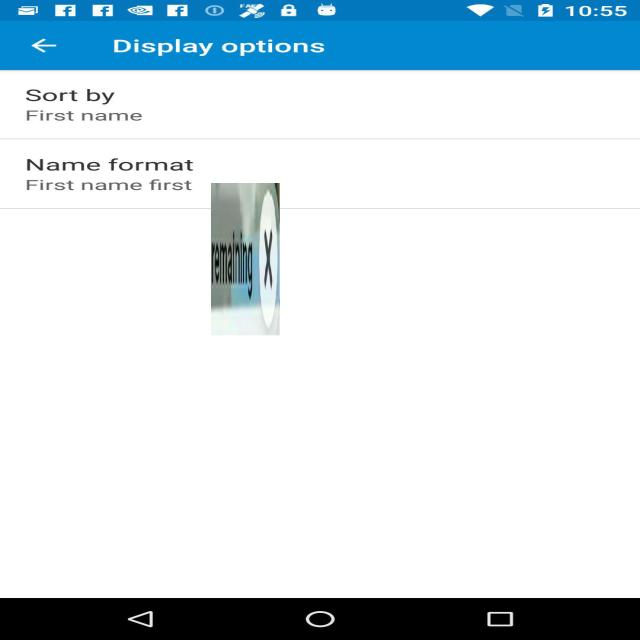misdirection: (211, 183, 280, 335)
